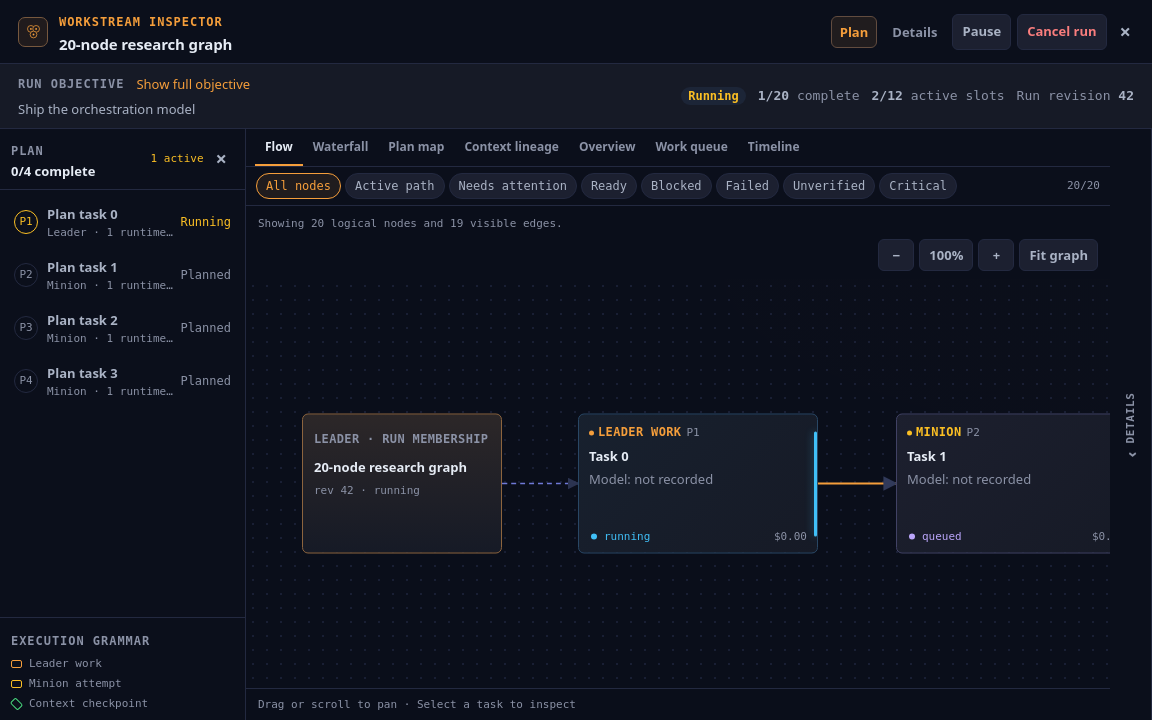
Test: GraphInspector › keeps the authored plan synchronized with flow and plan-map projections
The image size is (1152, 720).
Check: the text "Ship the orchestration model" is shown, box [18, 100, 195, 118]
Click the button "P2 Plan task 1 Minion · 1 runtime node planned": click(122, 274) [7, 250, 238, 300]
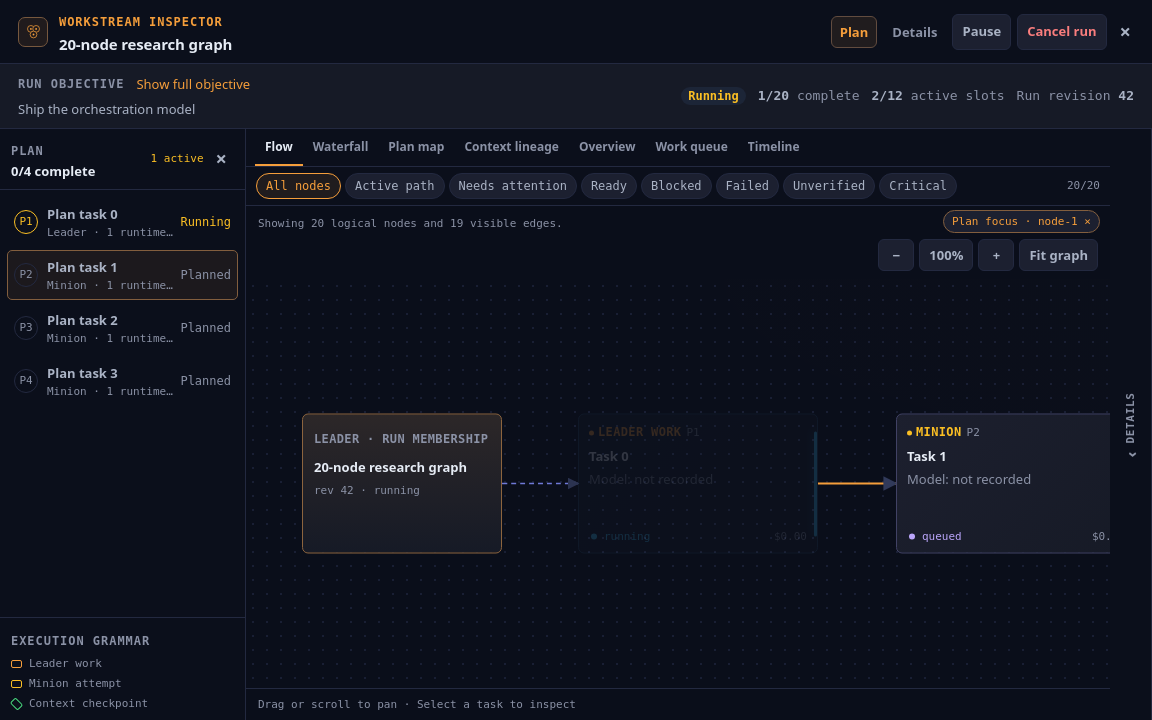
Check: the button with class "is-dimmed" is shown, box [578, 414, 818, 554]
Check: the button "Plan focus · node-1 ×" is shown, box [943, 210, 1100, 232]
Click the tab "Plan map": click(416, 147) [378, 128, 454, 166]
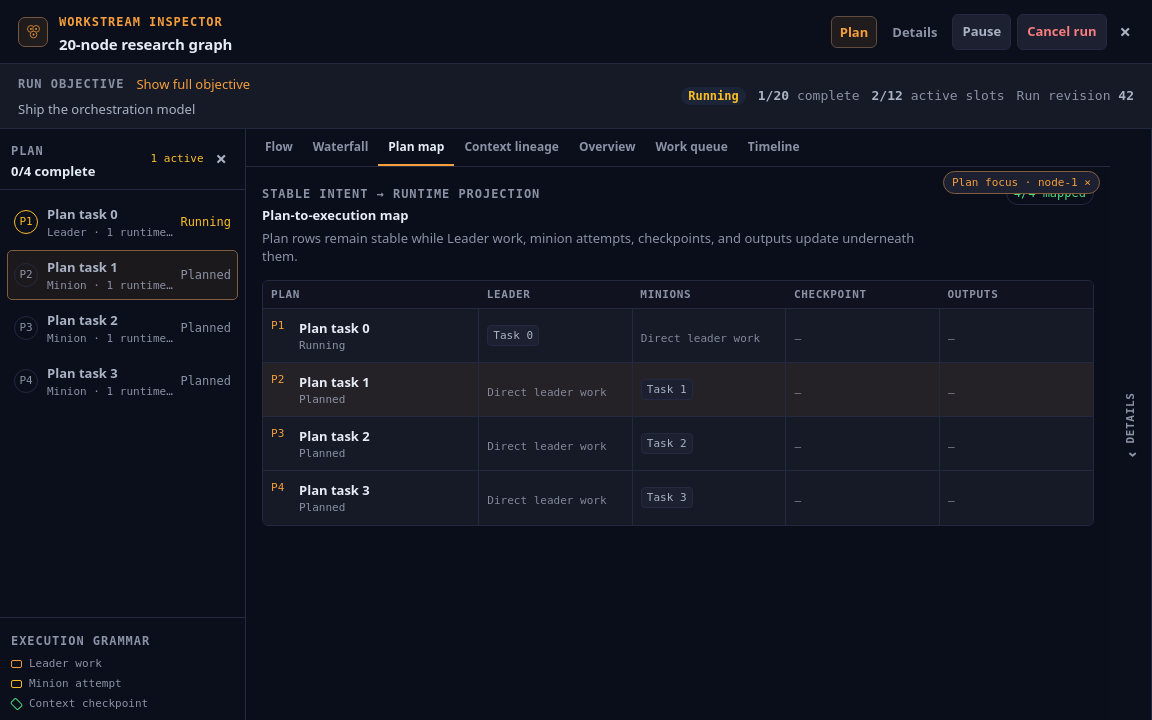
Check: the text "4/4 mapped" is shown, box [1006, 180, 1094, 204]
Check: the column heading "Checkpoint" is shown, box [786, 281, 939, 309]
